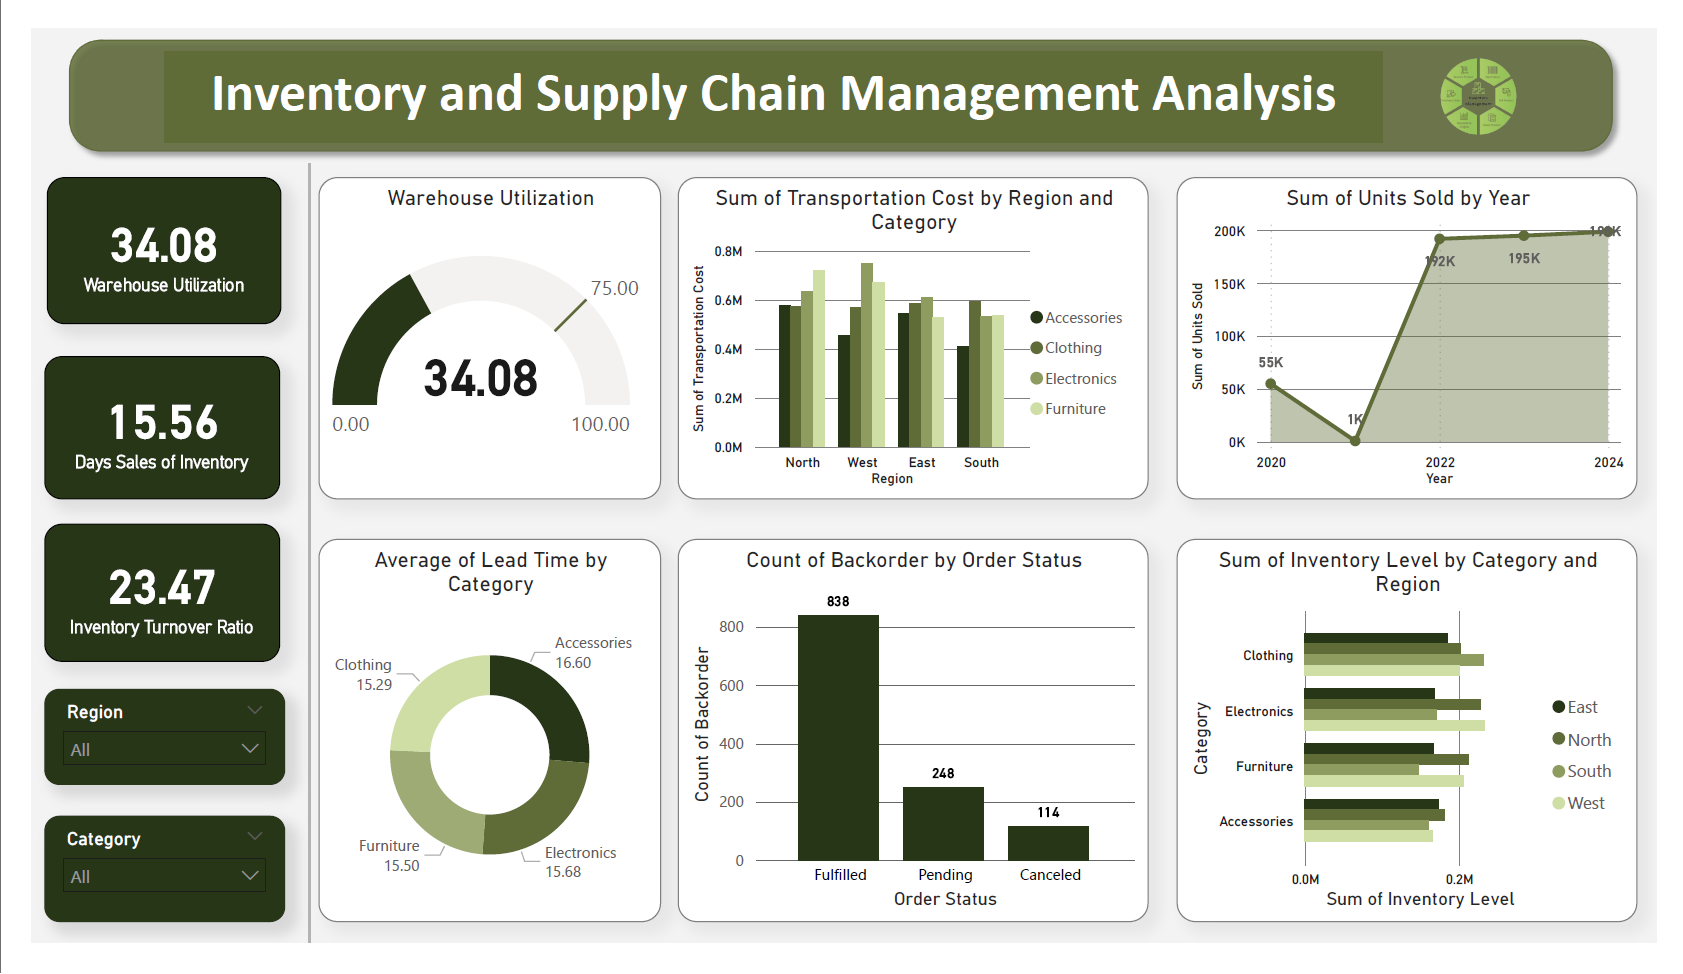

The page's visual inventory and layout, read from the dashboard file:
{"tool":"powerbi","page":{"name":"Page 1","canvas":[1280,720],"ordinal":0},"visuals":[{"type":"shape","box":[20.9,0,1234.1,106.1],"z":0},{"type":"textbox","box":[104.6,17.9,959.2,71.7],"z":1000},{"type":"image","box":[1077.2,13.4,124,80.7],"z":2000},{"type":"shape","box":[212.2,106.1,13.4,614.1],"z":3000},{"type":"card","fields":{"Values":["Inventory and Supply Chain Dataset.Warehouse Utilization"]},"box":[12,116.5,185.3,116.5],"z":4000},{"type":"card","fields":{"Values":["Inventory and Supply Chain Dataset.Days Sales of Inventory"]},"box":[10.5,258.5,185.3,112.1],"z":5000},{"type":"card","fields":{"Values":["Inventory and Supply Chain Dataset.Inventory Turnover Ratio"]},"box":[10.5,389.9,185.3,109.1],"z":6000},{"type":"slicer","fields":{"Values":["Inventory and Supply Chain Dataset.Region"]},"box":[10.5,519.9,189.7,76.2],"z":7000},{"type":"slicer","fields":{"Values":["Inventory and Supply Chain Dataset.Category"]},"box":[10.5,620,189.7,83.7],"z":8000},{"type":"gauge","fields":{"Y":["Inventory and Supply Chain Dataset.Warehouse Utilization"]},"box":[225.6,116.5,270.4,254],"z":9000},{"type":"clusteredColumnChart","fields":{"Y":["Sum(Inventory and Supply Chain Dataset.Transportation Cost)"],"Category":["Inventory and Supply Chain Dataset.Region"],"Series":["Inventory and Supply Chain Dataset.Category"]},"box":[509.5,116.5,370.5,254],"z":10000},{"type":"lineChart","fields":{"Y":["Sum(Inventory and Supply Chain Dataset.Units Sold)"],"Category":["Inventory and Supply Chain Dataset.Date.Variation.Date Hierarchy.Year"]},"box":[902.4,116.5,363.1,254],"z":11000},{"type":"donutChart","fields":{"Y":["Avg(Inventory and Supply Chain Dataset.Lead Time)"],"Category":["Inventory and Supply Chain Dataset.Category"]},"box":[225.6,401.9,270.4,301.8],"z":12000},{"type":"clusteredColumnChart","fields":{"Y":["CountNonNull(Inventory and Supply Chain Dataset.Backorder)"],"Category":["Inventory and Supply Chain Dataset.Order Status"]},"box":[509.5,401.9,370.5,301.8],"z":13000},{"type":"clusteredBarChart","fields":{"Y":["Sum(Inventory and Supply Chain Dataset.Inventory Level)"],"Category":["Inventory and Supply Chain Dataset.Category"],"Series":["Inventory and Supply Chain Dataset.Region"]},"box":[902.4,401.9,363.1,301.8],"z":14000}]}

Visuals, with their boxes in screenshot pixels (x1, y1, x2, y2), scaled from the page's 1280x720 canvas onto the 1683x974 screenshot:
shape: left=27, top=0, right=1650, bottom=144
textbox: left=138, top=24, right=1399, bottom=121
image: left=1416, top=18, right=1579, bottom=127
shape: left=279, top=144, right=297, bottom=973
card - Inventory and Supply Chain Dataset.Warehouse Utilization: left=16, top=158, right=259, bottom=315
card - Inventory and Supply Chain Dataset.Days Sales of Inventory: left=14, top=350, right=257, bottom=501
card - Inventory and Supply Chain Dataset.Inventory Turnover Ratio: left=14, top=527, right=257, bottom=675
slicer - Inventory and Supply Chain Dataset.Region: left=14, top=703, right=263, bottom=806
slicer - Inventory and Supply Chain Dataset.Category: left=14, top=839, right=263, bottom=952
gauge - Inventory and Supply Chain Dataset.Warehouse Utilization: left=297, top=158, right=652, bottom=501
clusteredColumnChart - Sum(Inventory and Supply Chain Dataset.Transportation Cost) x Inventory and Supply Chain Dataset.Region: left=670, top=158, right=1157, bottom=501
lineChart - Sum(Inventory and Supply Chain Dataset.Units Sold) x Inventory and Supply Chain Dataset.Date.Variation.Date Hierarchy.Year: left=1187, top=158, right=1664, bottom=501
donutChart - Avg(Inventory and Supply Chain Dataset.Lead Time) x Inventory and Supply Chain Dataset.Category: left=297, top=544, right=652, bottom=952
clusteredColumnChart - CountNonNull(Inventory and Supply Chain Dataset.Backorder) x Inventory and Supply Chain Dataset.Order Status: left=670, top=544, right=1157, bottom=952
clusteredBarChart - Sum(Inventory and Supply Chain Dataset.Inventory Level) x Inventory and Supply Chain Dataset.Category: left=1187, top=544, right=1664, bottom=952
